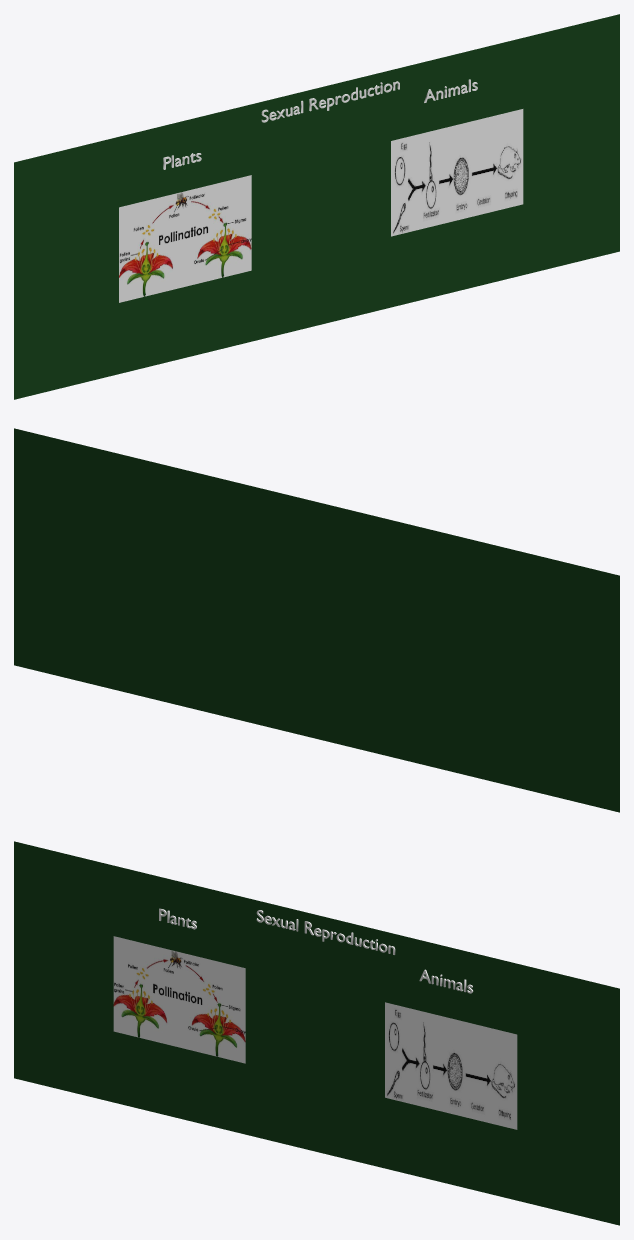
The model's file is mating.gltf.
3 views of the same model, one above another, from view 1: azimuth 30°, elevation 25°; view 2: azimuth 150°, elevation 25°; view 3: azimuth 330°, elevation 25° (orthographic).
Parts seen in each view (by area): view 1: Plane.013, Plane, Plane.001, Text.001; view 2: Plane.013; view 3: Plane.013, Plane, Plane.001, Text.001.
Part boxes in pixels (x1,y1,x2,y2): Plane.013: [14, 14, 619, 399]; Plane: [119, 175, 251, 302]; Plane.001: [391, 109, 523, 236]; Text.001: [261, 81, 399, 122]; Plane.013: [14, 428, 619, 812]; Plane.013: [14, 841, 619, 1225]; Plane: [113, 936, 245, 1063]; Plane.001: [385, 1002, 517, 1129]; Text.001: [256, 910, 395, 954].
Bounding box in the file's own units: 15.94 × 5.96 × 0.1459.
6 materials, 2 textured.
